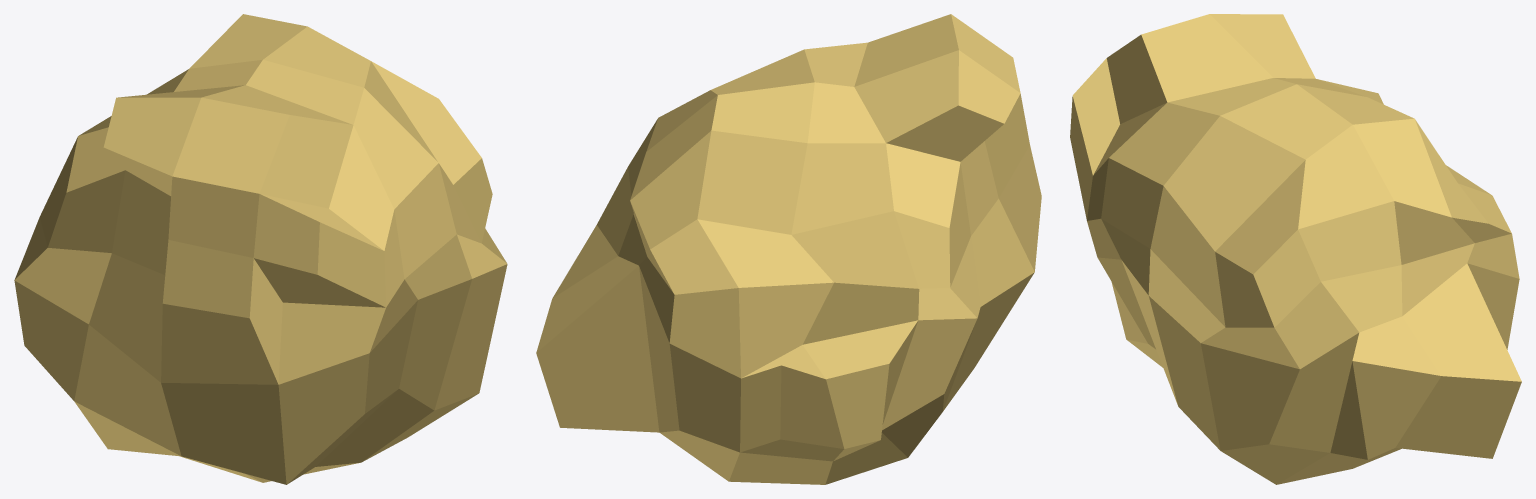
The model's file is popcorn5.fbx.
3 renders of one model, left to right at view 1: azimuth 30°, elevation 25°; view 2: azimuth 150°, elevation 25°; view 3: azimuth 270°, elevation 25°, orthographic. The views are drawn at different scales.
Parts seen in each view (by area): view 1: POPCORN; view 2: POPCORN; view 3: POPCORN.
Boxes of the visible parts, x1,y1,x2,y2 form: POPCORN: [14, 14, 507, 484]; POPCORN: [536, 14, 1041, 484]; POPCORN: [1070, 14, 1521, 484].
Bounding box in the file's own units: 42.99 × 42 × 44.54.
